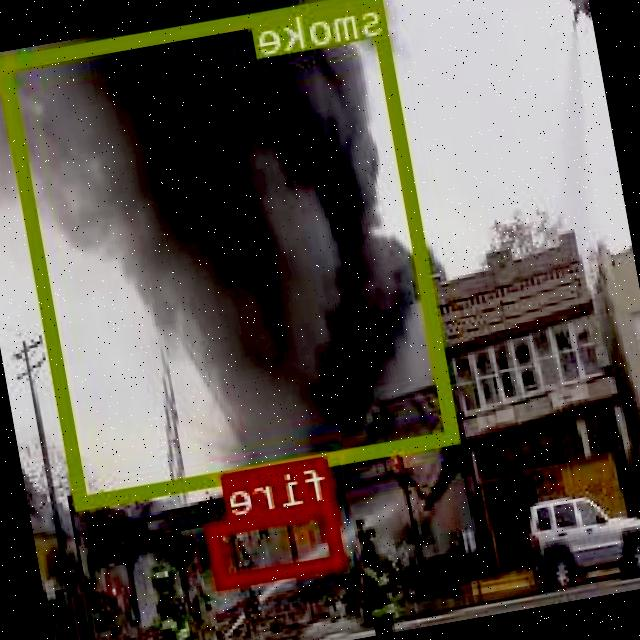fire: (210, 500, 347, 586)
smoke: (0, 0, 462, 507)
